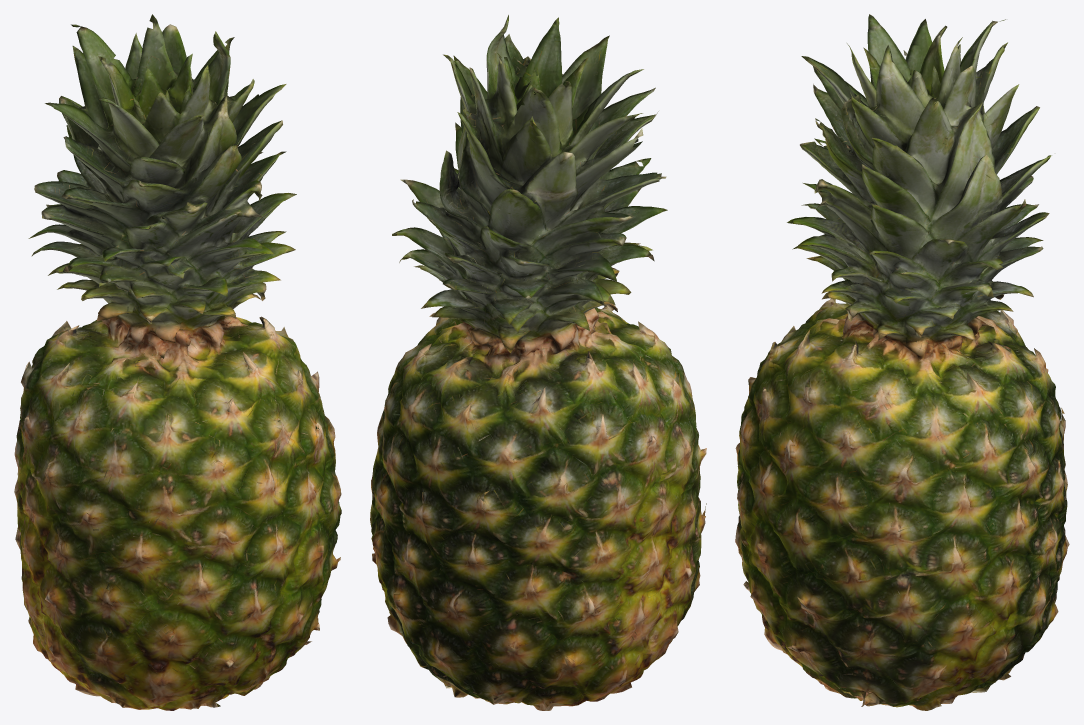
Rendered from pineapple.glb.
The picture shows the model from 3 angles, left to right: view 1: azimuth 30°, elevation 25°; view 2: azimuth 150°, elevation 25°; view 3: azimuth 270°, elevation 25°; orthographic projection.
Visible parts, largest first — view 1: Object_2; view 2: Object_2; view 3: Object_2.
Part boxes in pixels (<box>): Object_2: <box>14,14,341,710</box>; Object_2: <box>370,15,706,710</box>; Object_2: <box>735,14,1069,710</box>.
Size of the model in its own units: 1.49 by 3.2 by 1.5.
1 material, 1 textured.
